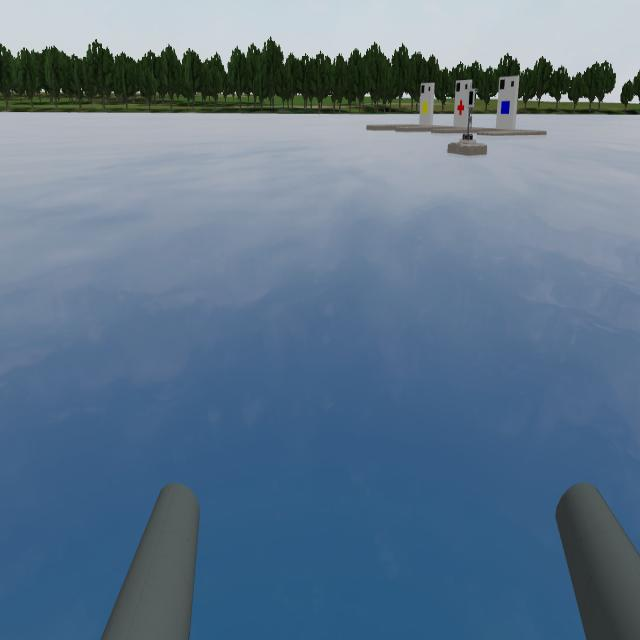black_pole: (466, 84, 477, 122)
